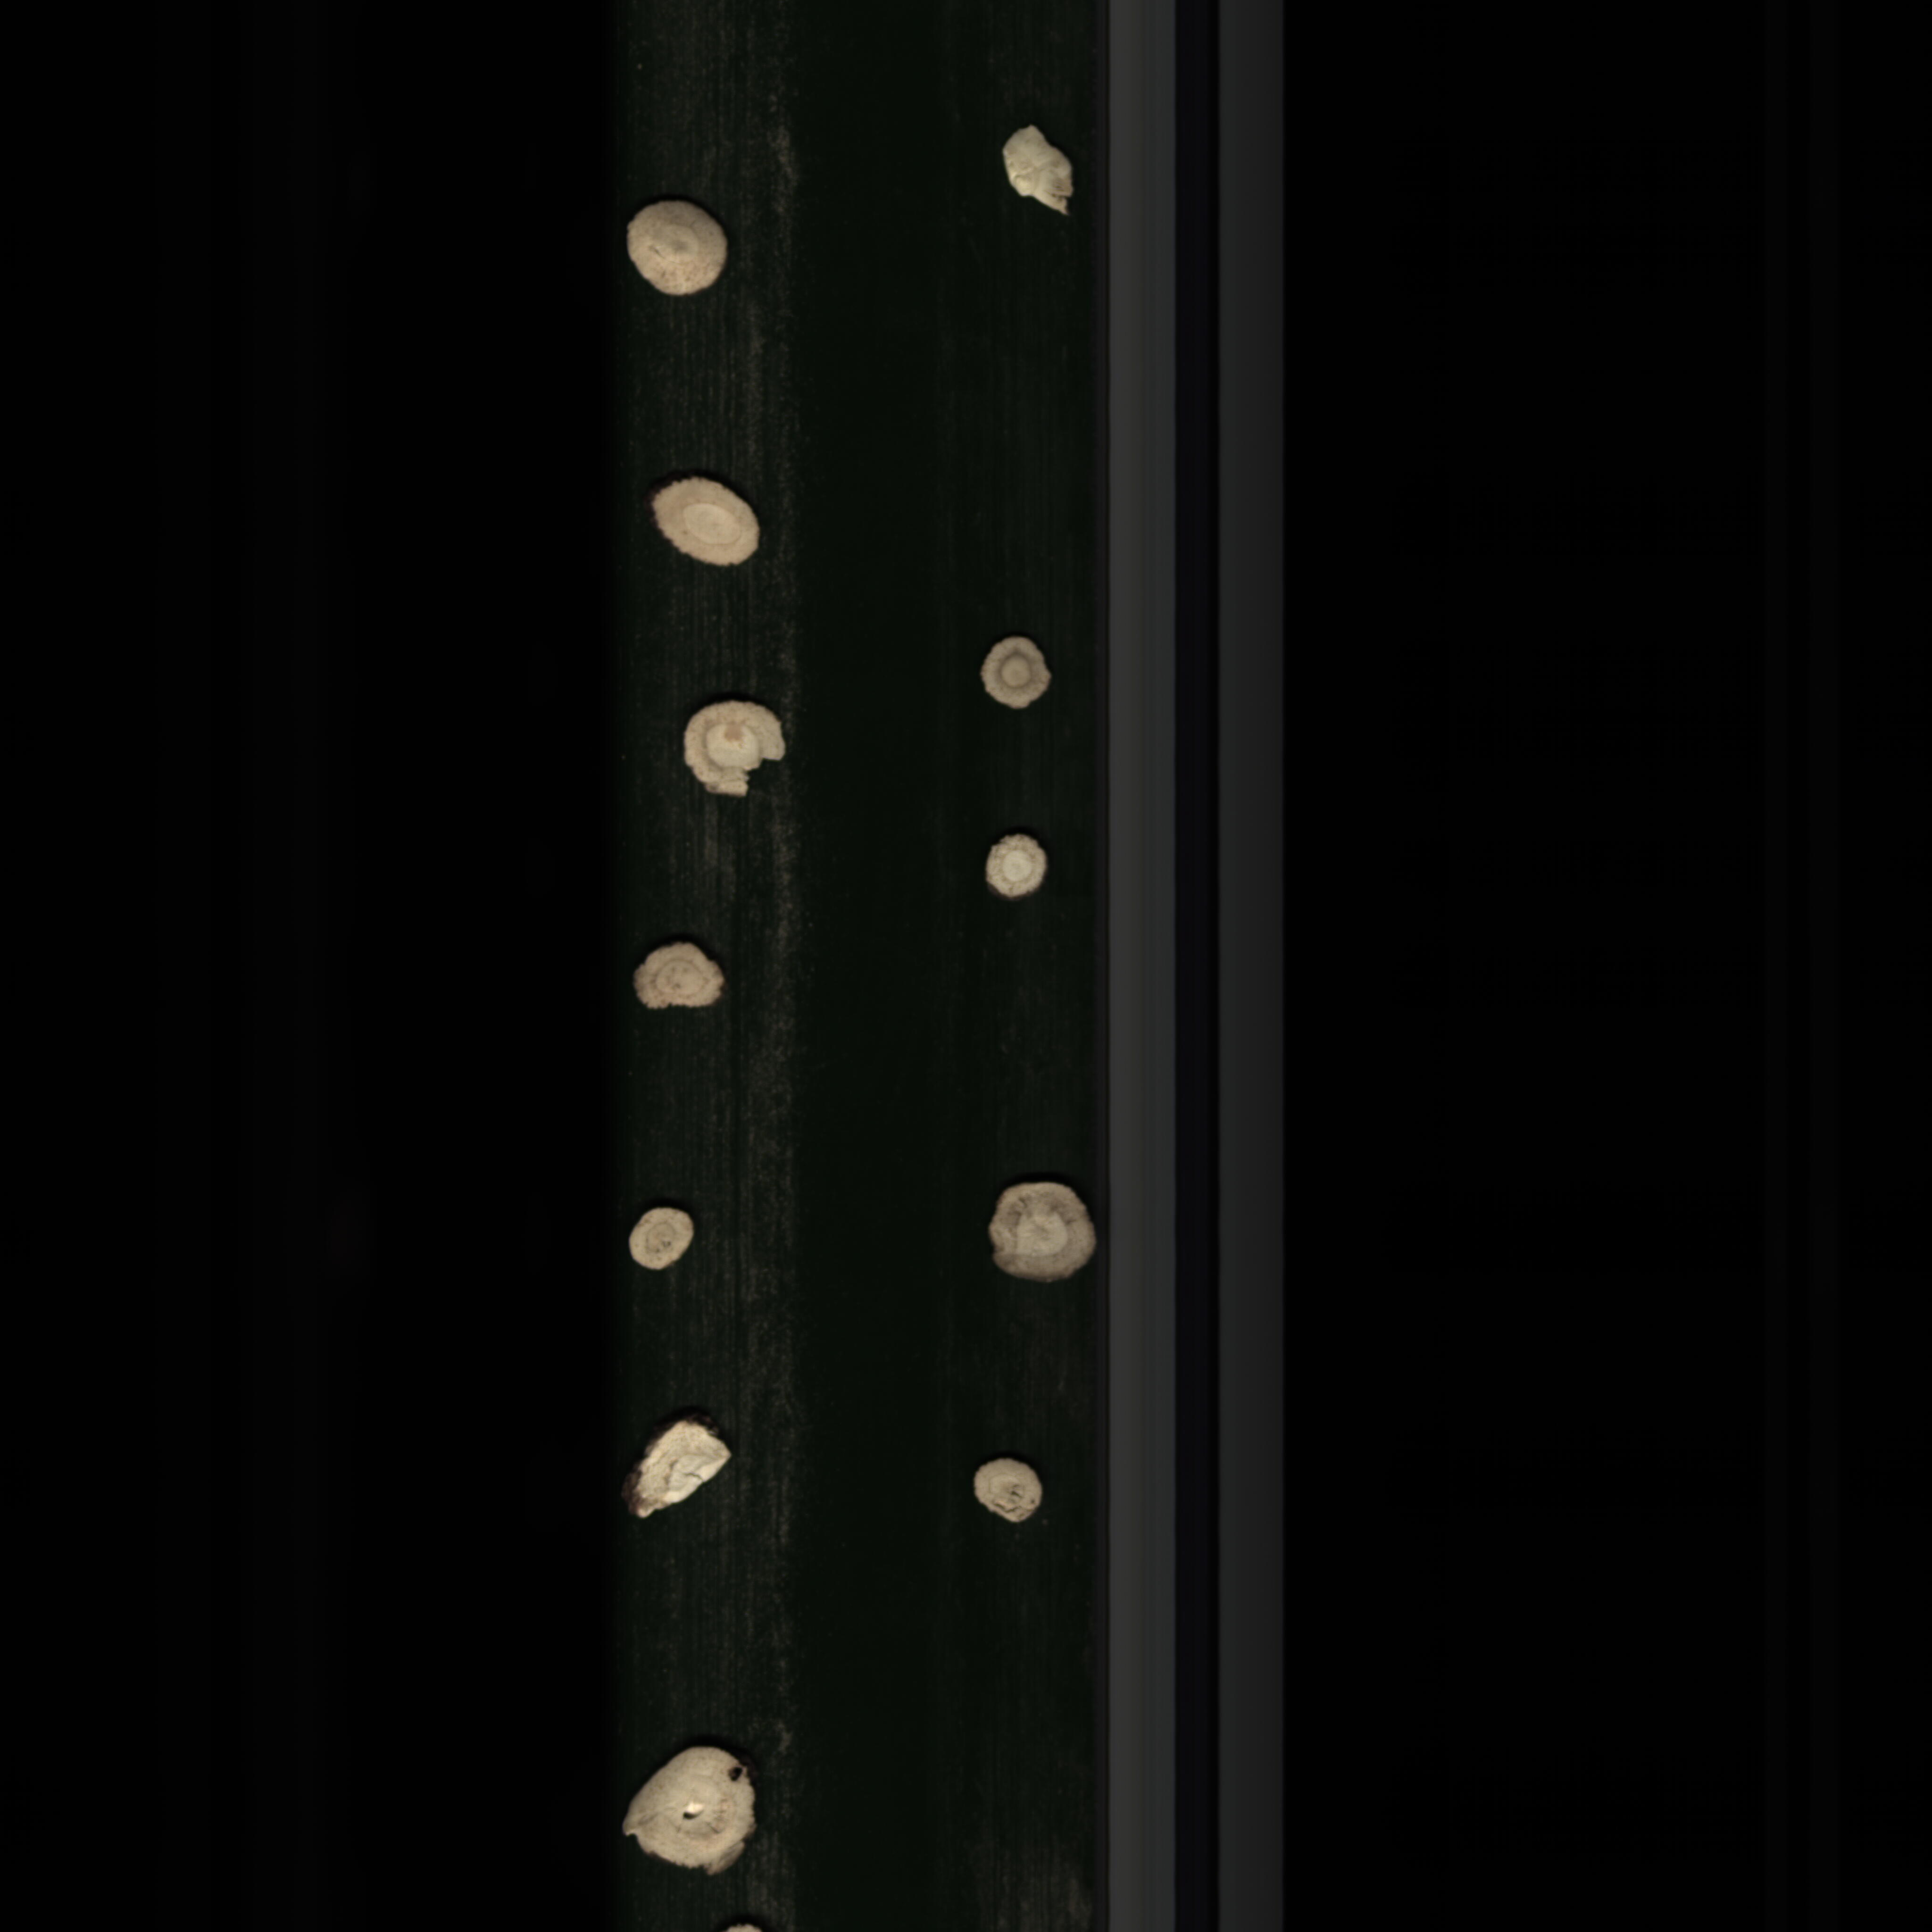debris: (610, 1410, 741, 1529), (674, 688, 803, 803)
hole: (964, 1451, 1063, 1534)
moldy: (970, 635, 1070, 713)
